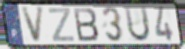3: (100, 6, 125, 44)
4: (154, 6, 175, 44)
B: (72, 7, 100, 43)
U: (123, 5, 152, 44)
V: (20, 5, 46, 44)
Z: (47, 7, 76, 43)
